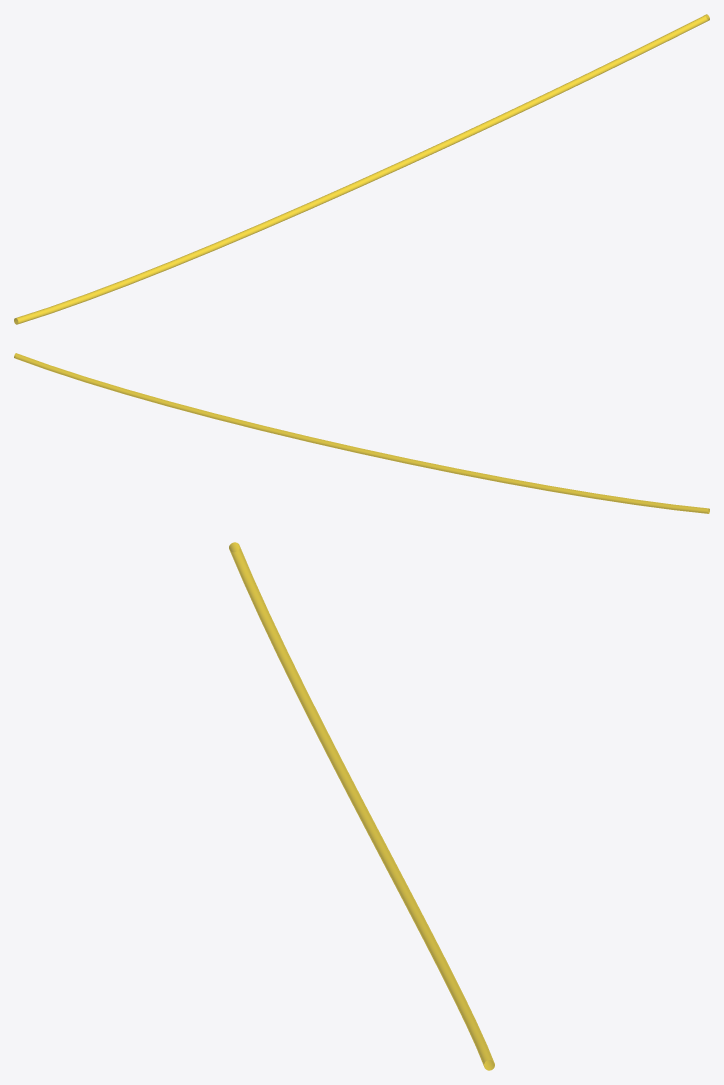
File: Event_17758602_track_74.fbx
The picture shows the model from 3 angles, top to bottom: view 1: azimuth 30°, elevation 25°; view 2: azimuth 150°, elevation 25°; view 3: azimuth 270°, elevation 25°; orthographic projection. The views are drawn at different scales.
Parts seen in each view (by area): view 1: Model; view 2: Model; view 3: Model.
Part boxes in pixels (bbox=[...]): Model: bbox=[14, 14, 709, 324]; Model: bbox=[14, 353, 709, 513]; Model: bbox=[229, 542, 494, 1070].
Bounding box in the file's own units: 5.25 × 0.4386 × 0.9576.
